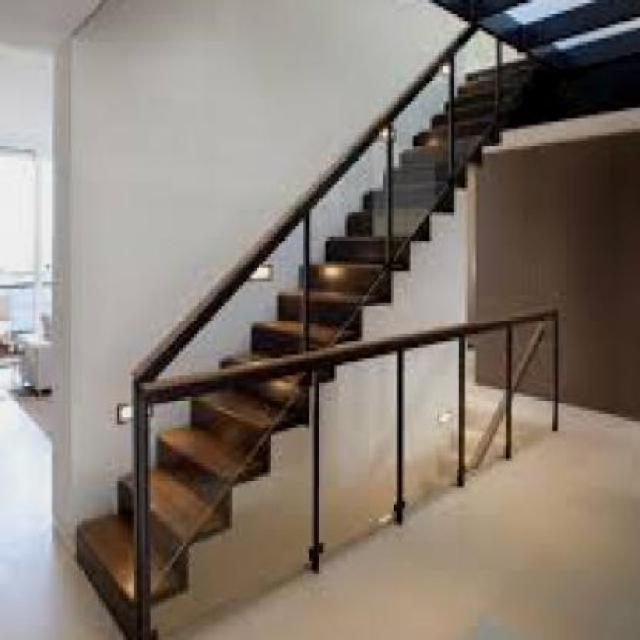stair: (44, 34, 553, 636)
